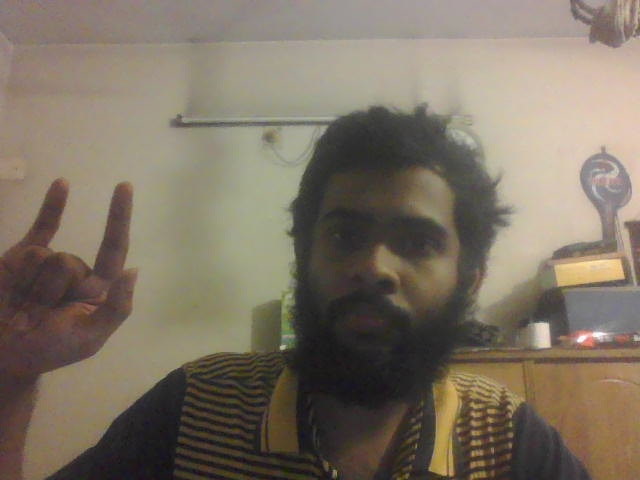I Love You: (1, 180, 138, 374)
